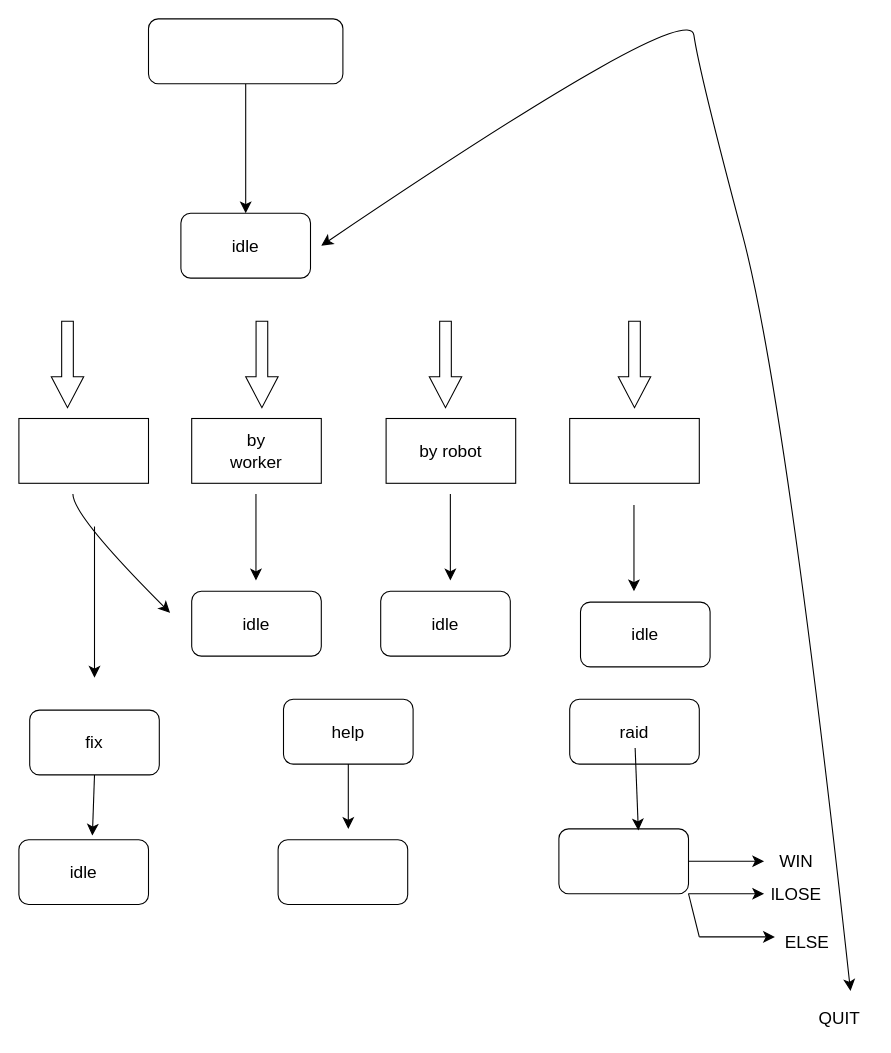
Some shapes in this 891 by 1053 pixel diagram are drawn without their labels. The shapes that lost their labels are listed below. From the top down, each one's centre as x and y in pixels, then its label:
At [245,51]: "START".
At [83,450]: "mine".
At [634,450]: "super robot".
At [342,872]: "idel".
At [623,861]: "blattle".
